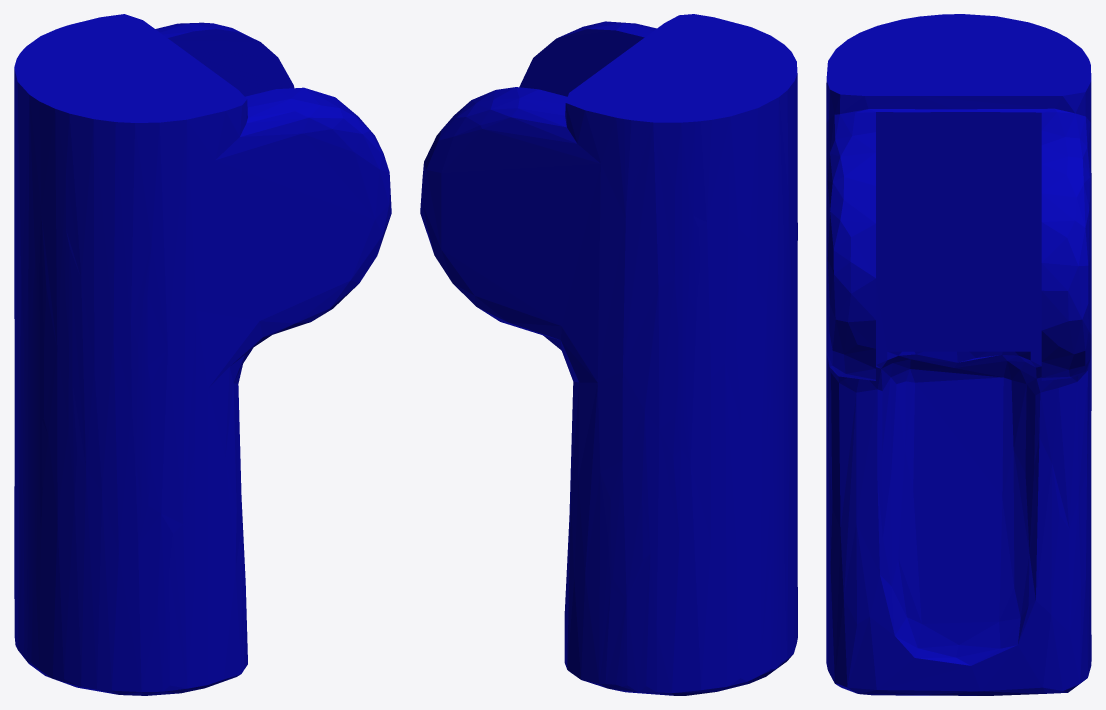
File: shoulder_pan.gltf
3 views of the same model, side by side, from view 1: azimuth 30°, elevation 25°; view 2: azimuth 150°, elevation 25°; view 3: azimuth 270°, elevation 25° (orthographic). The views are drawn at different scales.
Visible parts, largest first — view 1: Node; view 2: Node; view 3: Node.
Boxes of the visible parts, <box> form: Node: <box>14,14,391,695</box>; Node: <box>420,14,797,695</box>; Node: <box>826,14,1091,695</box>.
Bounding box in the file's own units: 0.3536 × 0.6329 × 0.2543.
